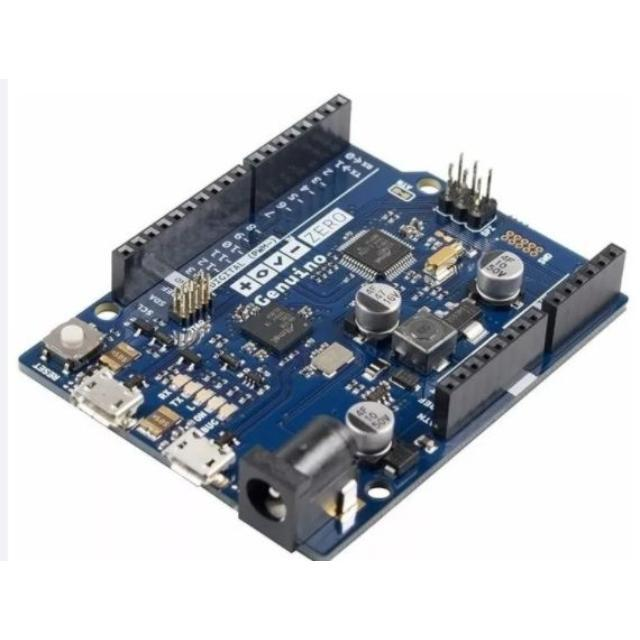Arduino-Zero: (21, 96, 627, 561)
